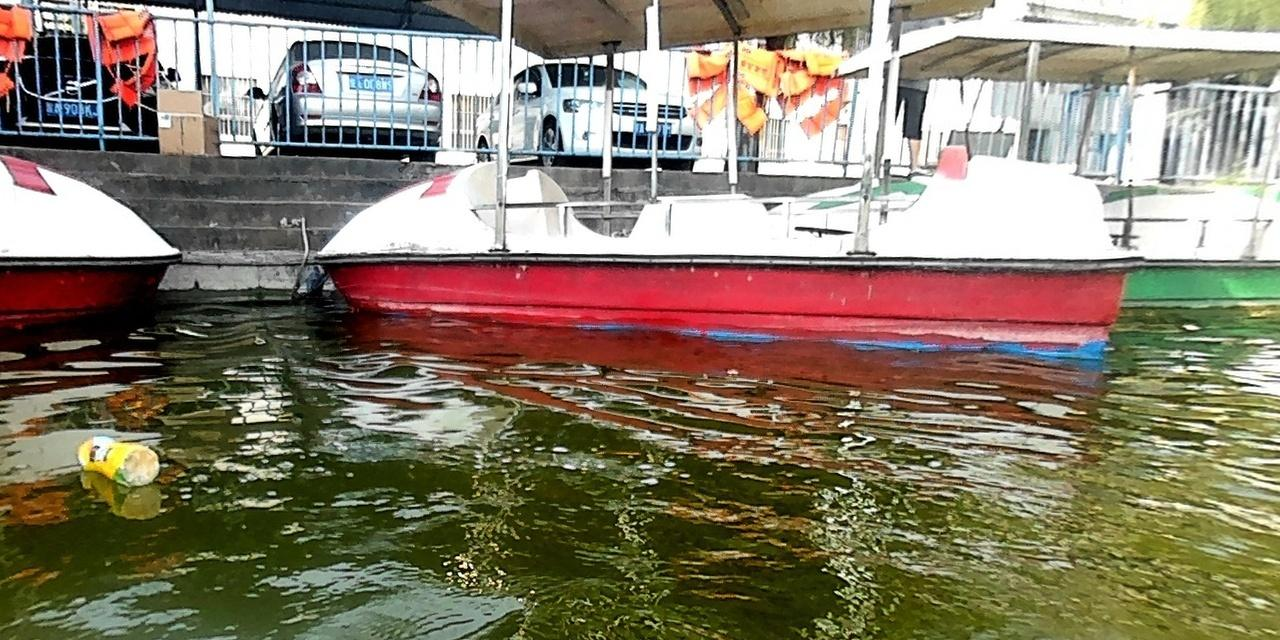bottle: (74, 436, 157, 482)
